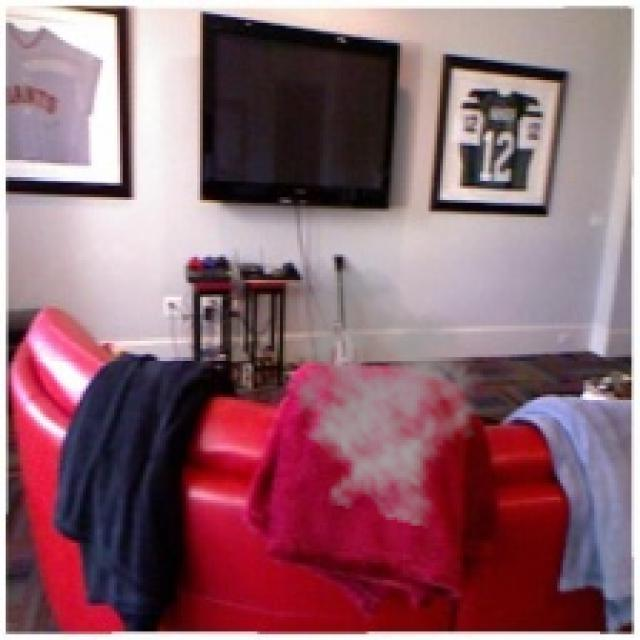Smoke: (271, 262, 486, 528)
